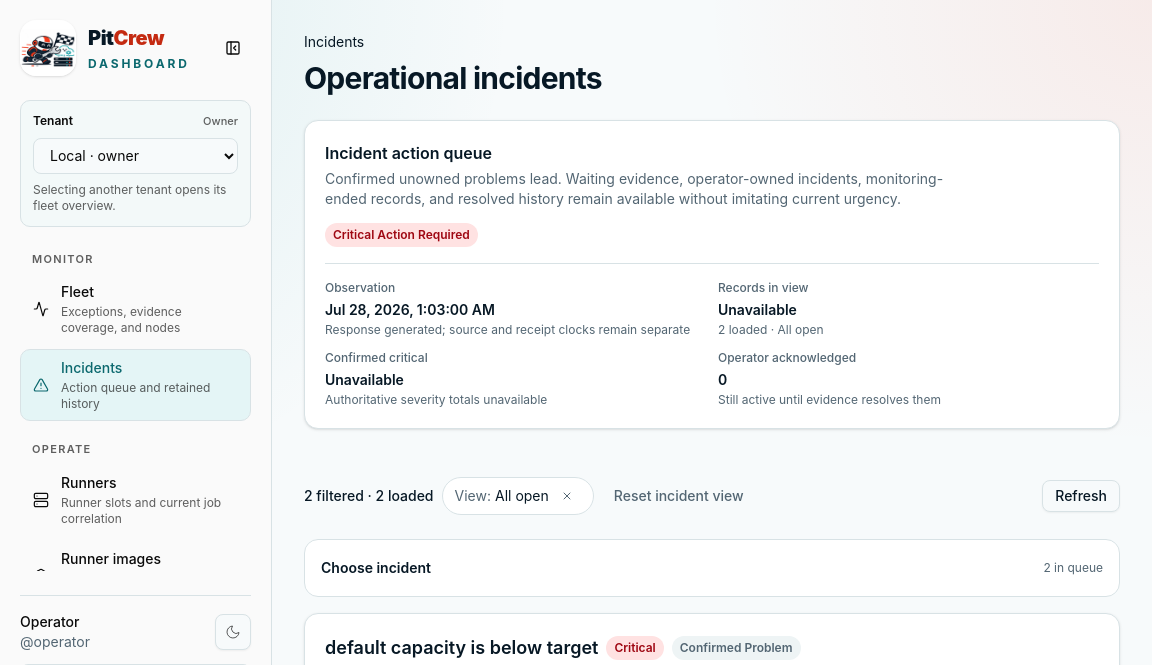
IncidentsPage › collapses the mobile queue and focuses the selected case after investigation
The image size is (1152, 665).
Step 1. Click the text "Choose incident" → coordinates (376, 568), box [321,558,431,578]
(page scrolled)
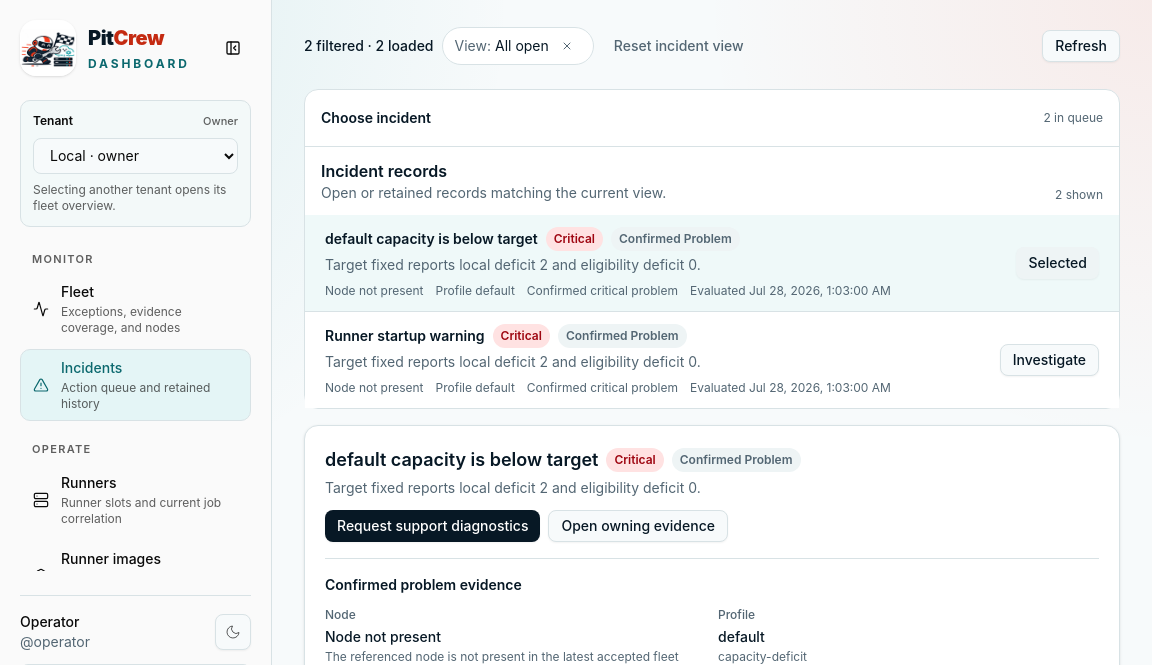
Check: the text "Choose incident" has attribute open, box [304,89,1120,409]
Step 2. Click the link "Investigate" → coordinates (1049, 360), box [1000,344,1099,376]
(page scrolled)
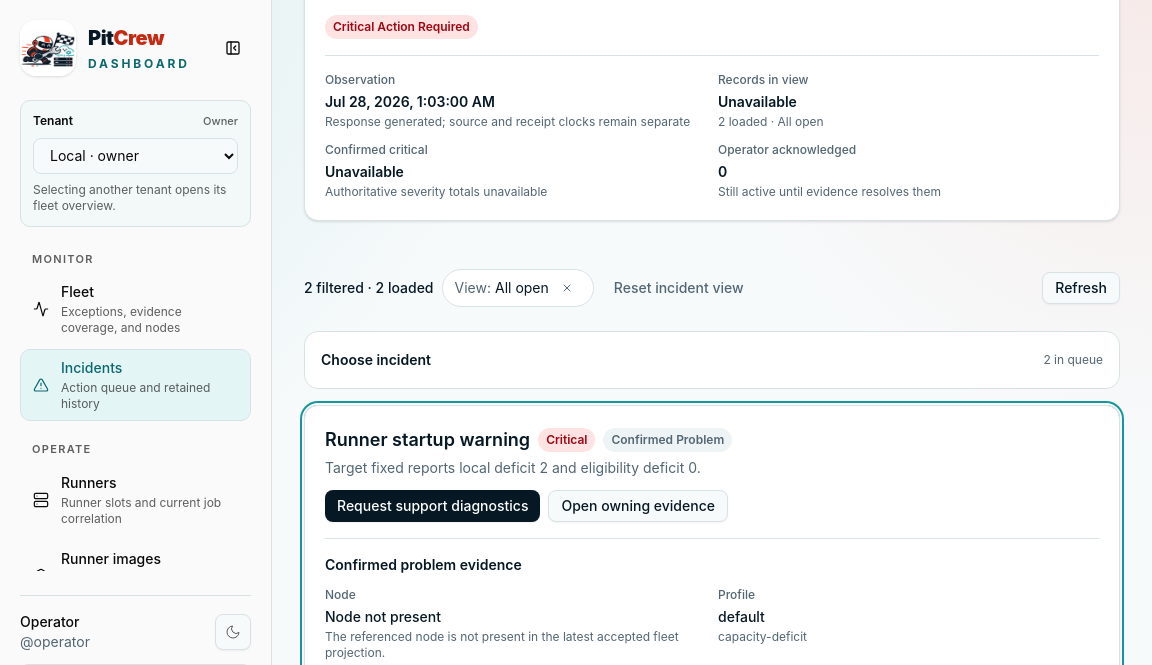
Check: the heading "Runner startup warning" is shown, box [325,426,530,454]
